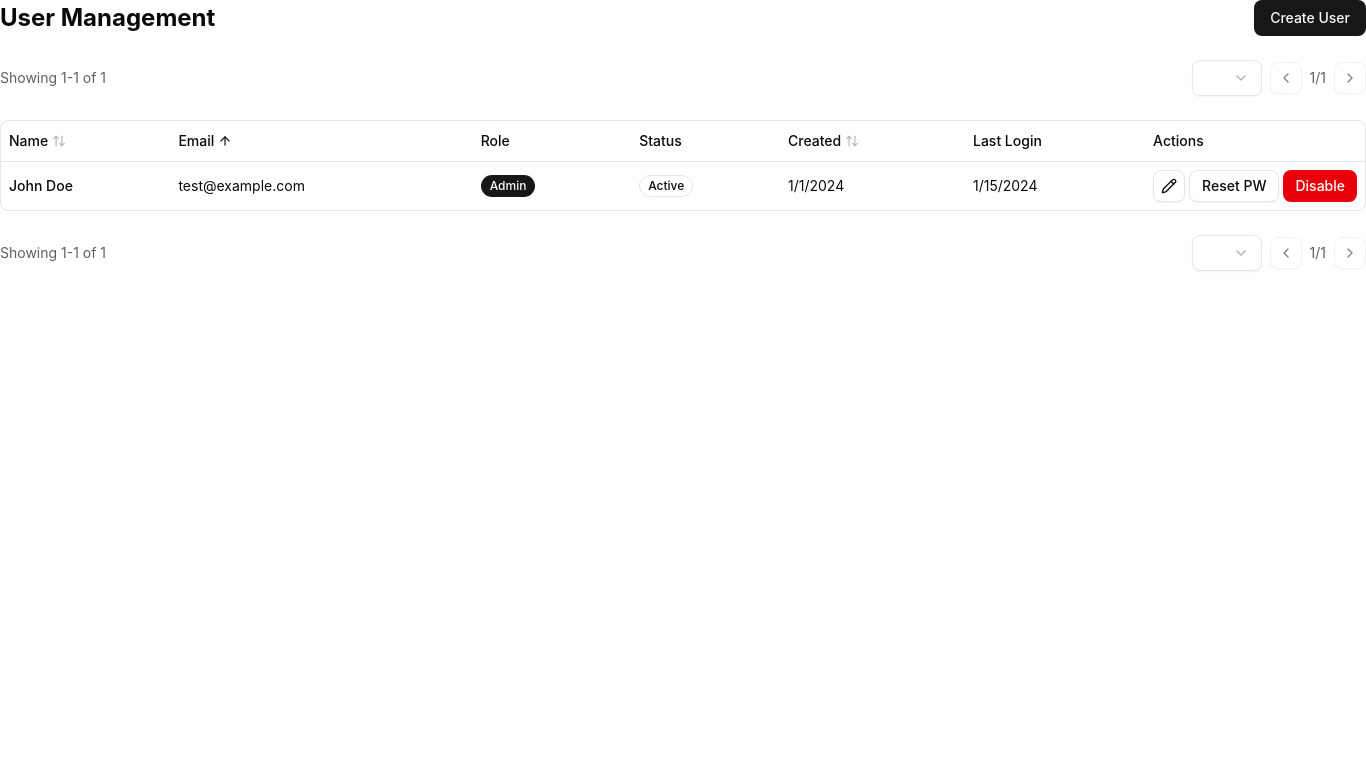
Test: AdminUsers › opens edit user dialog when Edit button is clicked
Click the button named "edit".
click(1169, 186)  # box [1153,170,1185,202]
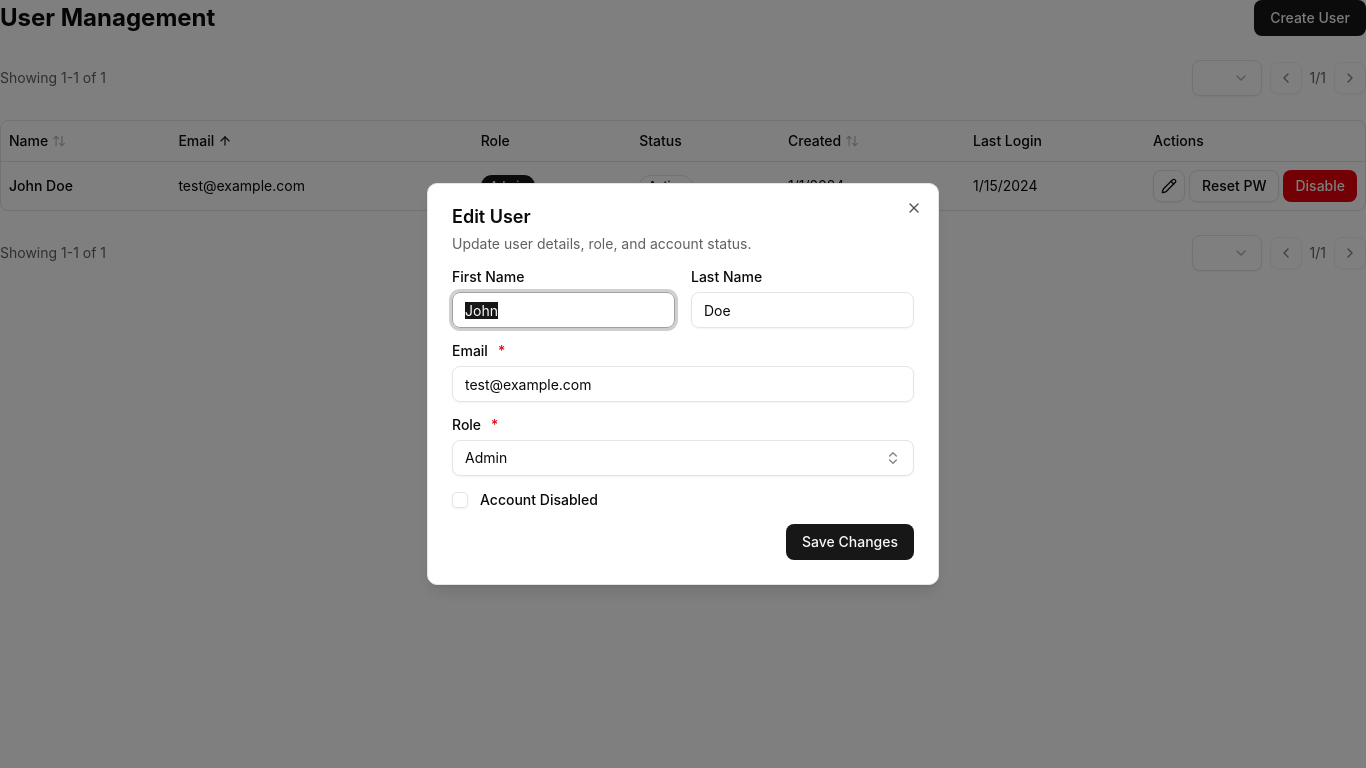
expect the text "Update user details, role, and account status." is shown: met, box [452,235,752,252]
